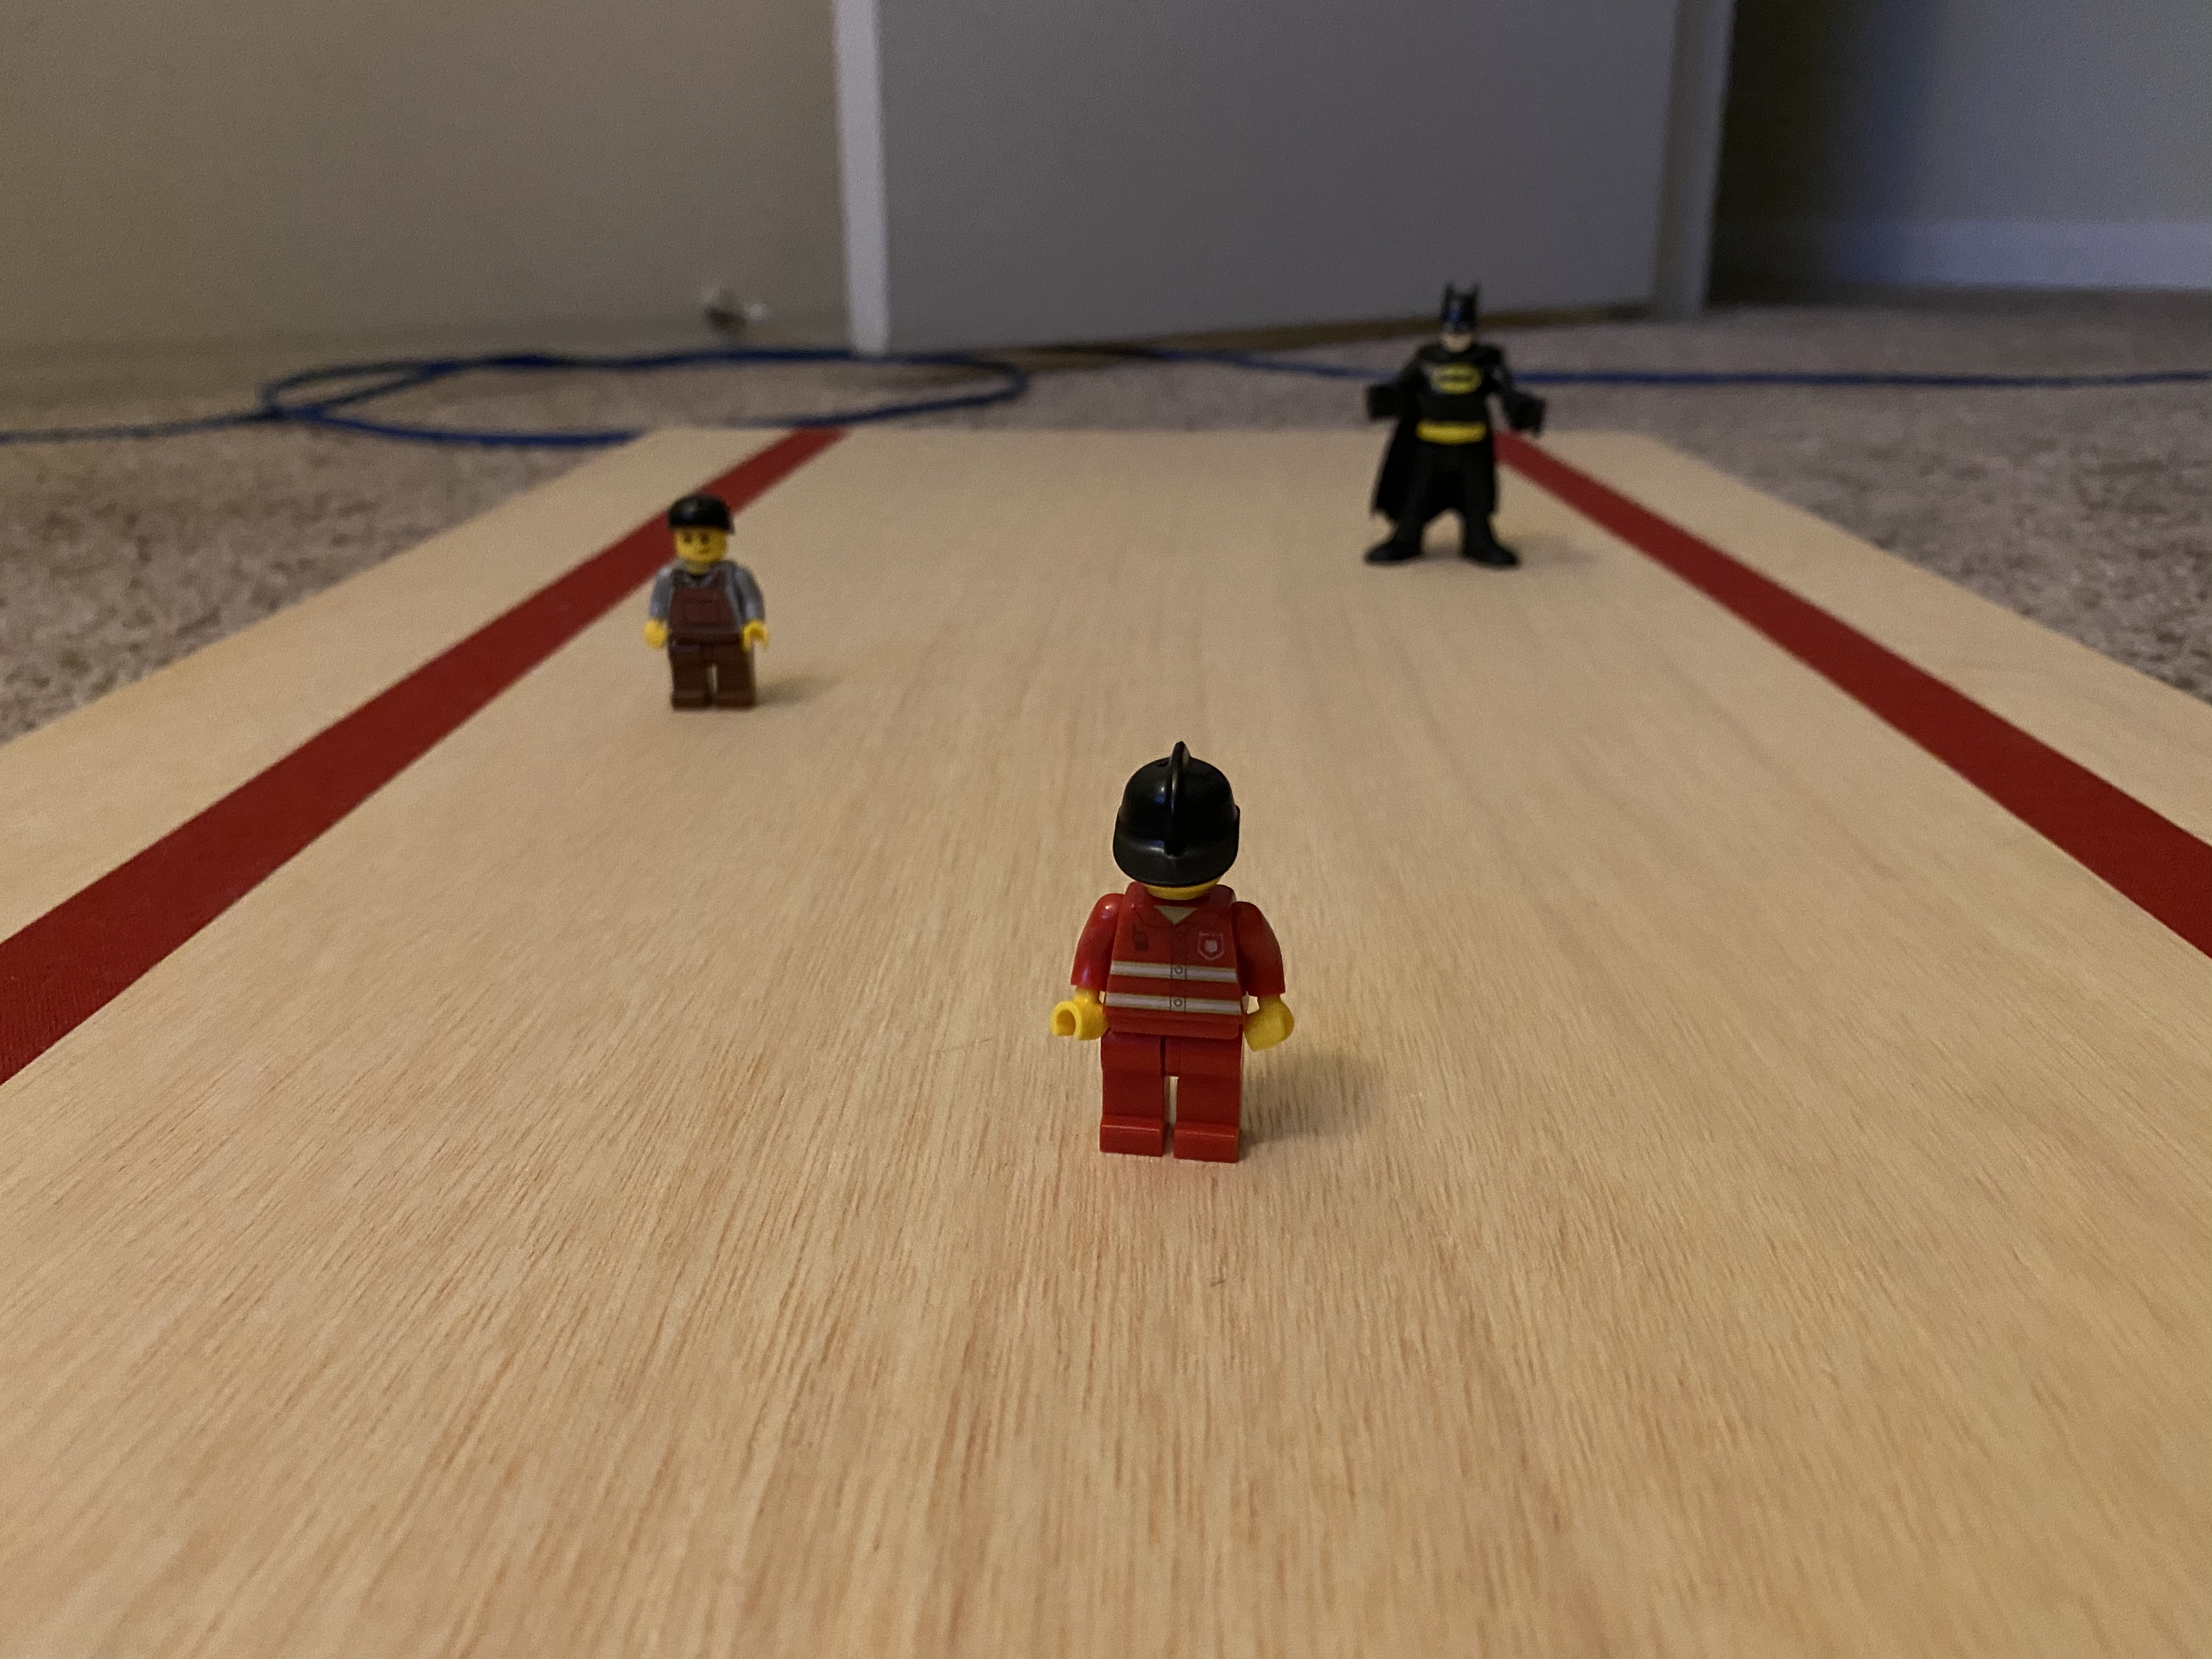Person: (1051, 738, 1312, 1181), (1344, 276, 1559, 587), (626, 477, 791, 729)
